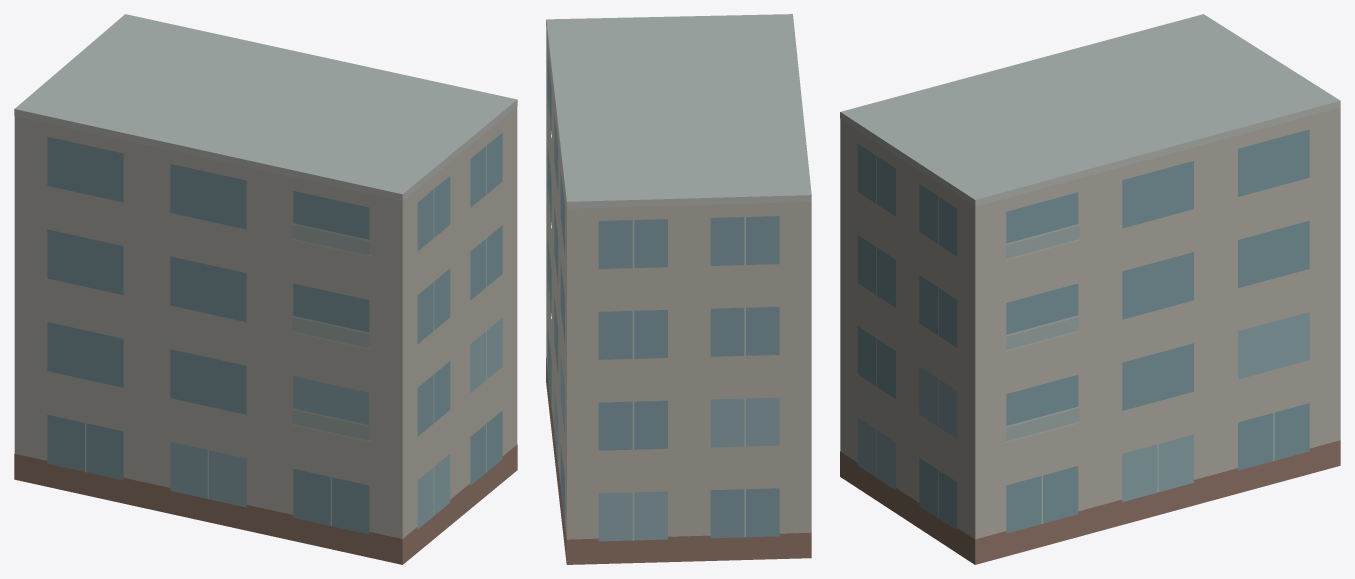
File: survey-upis-33001186.glb
The picture shows the model from 3 angles, left to right: view 1: azimuth 30°, elevation 25°; view 2: azimuth 150°, elevation 25°; view 3: azimuth 270°, elevation 25°; orthographic projection. The views are drawn at different scales.
Parts seen in each view (by area): view 1: survey-upis-33001186.tmp; view 2: survey-upis-33001186.tmp; view 3: survey-upis-33001186.tmp.
Boxes of the visible parts, x1,y1,x2,y2 form: survey-upis-33001186.tmp: (14,14,517,564); survey-upis-33001186.tmp: (546,14,811,564); survey-upis-33001186.tmp: (840,14,1340,564).
Size of the model in its own units: 14.27 by 13.05 by 16.23.
